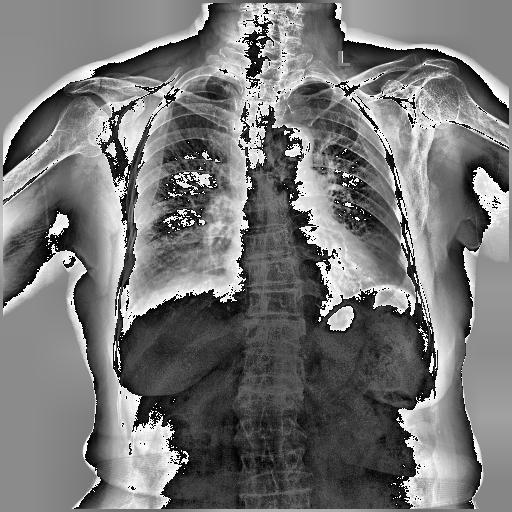0- Aortic enlargement: (265, 125, 316, 189), (269, 124, 314, 172), (266, 126, 312, 162)
10- Pleural effusion: (112, 288, 148, 326)
11- Pleural thickening: (169, 74, 215, 104), (112, 288, 148, 326), (165, 74, 208, 101), (115, 289, 137, 340), (330, 82, 358, 108), (398, 229, 411, 274)
3- Cardiomegaly: (219, 232, 386, 292), (218, 245, 386, 298), (224, 247, 380, 289)
